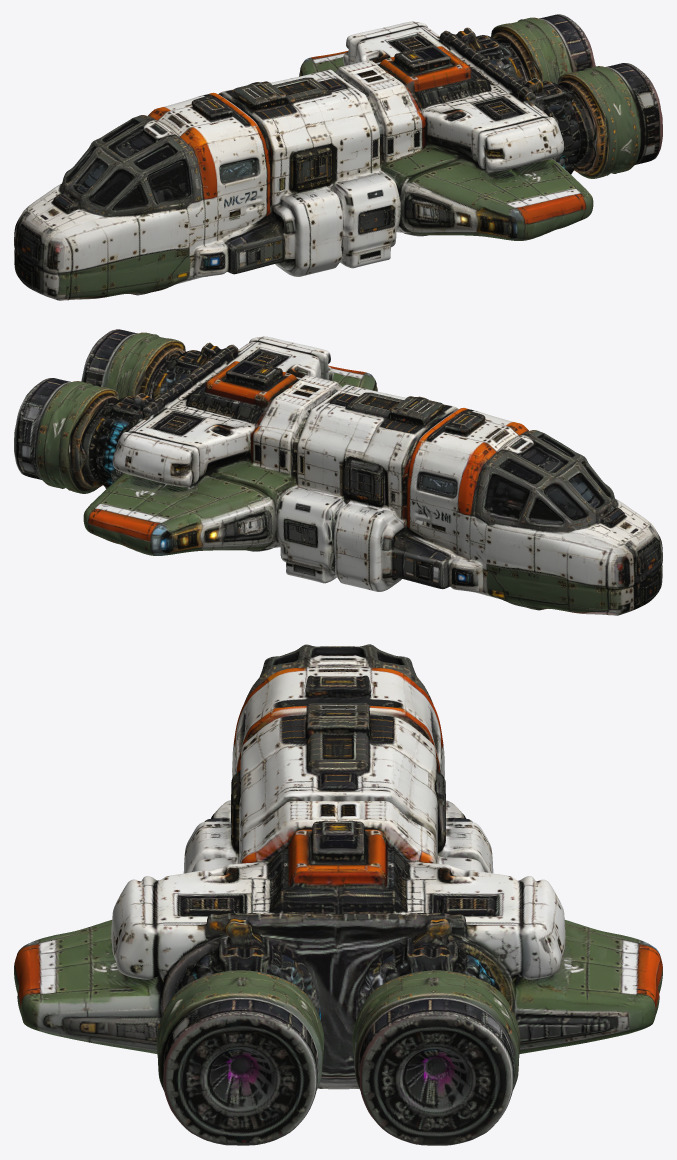
The model's file is ship3.glb.
3 renders of one model, top to bottom at view 1: azimuth 30°, elevation 25°; view 2: azimuth 150°, elevation 25°; view 3: azimuth 270°, elevation 25°, orthographic. The views are drawn at different scales.
Bounding box in the file's own units: 1.9 × 0.4833 × 1.24.
1 material, 1 textured.
